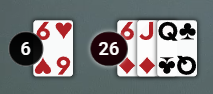6: (31, 19, 54, 42), (115, 19, 137, 42)
j: (136, 19, 157, 43)
q: (156, 19, 180, 44)
